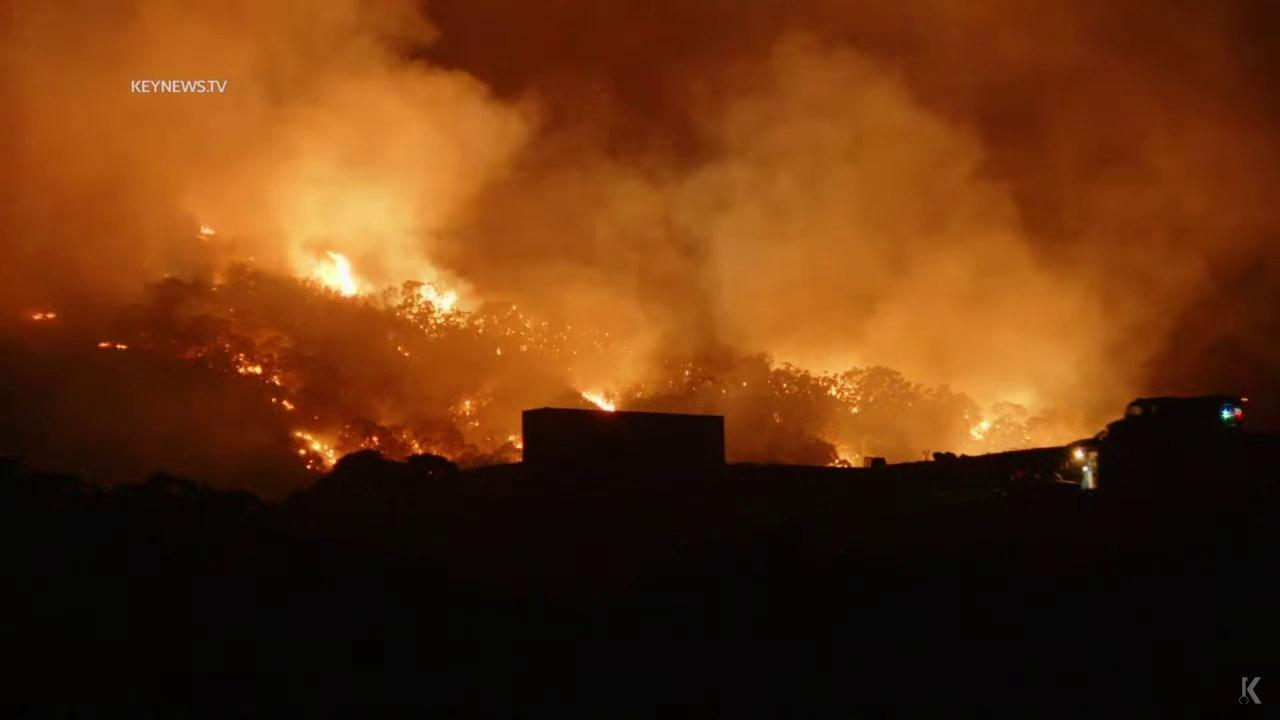fire: (296, 246, 362, 304), (288, 426, 342, 474), (411, 279, 460, 329), (223, 340, 266, 376), (819, 381, 862, 417), (576, 388, 619, 416), (967, 416, 996, 441), (399, 430, 426, 456), (270, 394, 295, 413), (359, 432, 382, 452), (505, 432, 525, 451), (459, 397, 477, 418), (31, 310, 58, 323), (196, 223, 218, 237), (93, 336, 112, 350), (262, 374, 283, 386), (116, 341, 128, 353)
smoke: (0, 0, 1280, 516)
